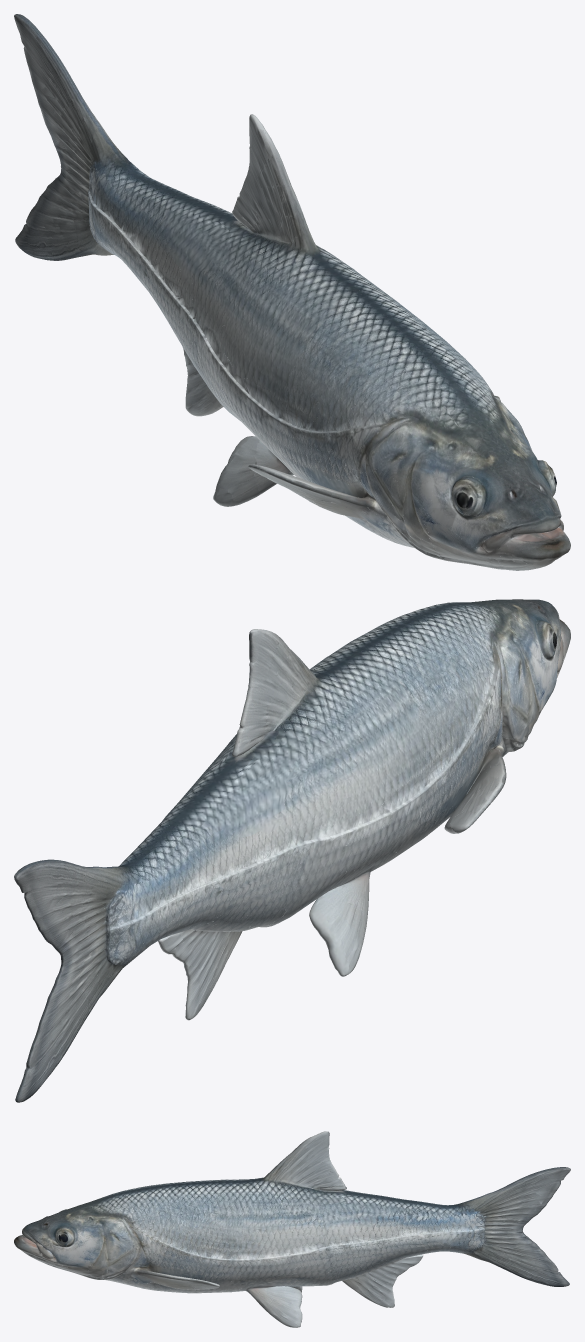
Rendered from bolen.glb.
3 views of the same model, one above another, from view 1: azimuth 30°, elevation 25°; view 2: azimuth 150°, elevation 25°; view 3: azimuth 270°, elevation 25° (orthographic). The views are drawn at different scales.
Parts seen in each view (by area): view 1: Mesh_0; view 2: Mesh_0; view 3: Mesh_0.
Part boxes in pixels (x1,y1,x2,y2): Mesh_0: [14, 14, 570, 570]; Mesh_0: [14, 599, 570, 1102]; Mesh_0: [14, 1131, 570, 1327].
Bounding box in the file's own units: 0.4585 × 0.6799 × 1.9.
Materials: 1 (1 with a texture image).
